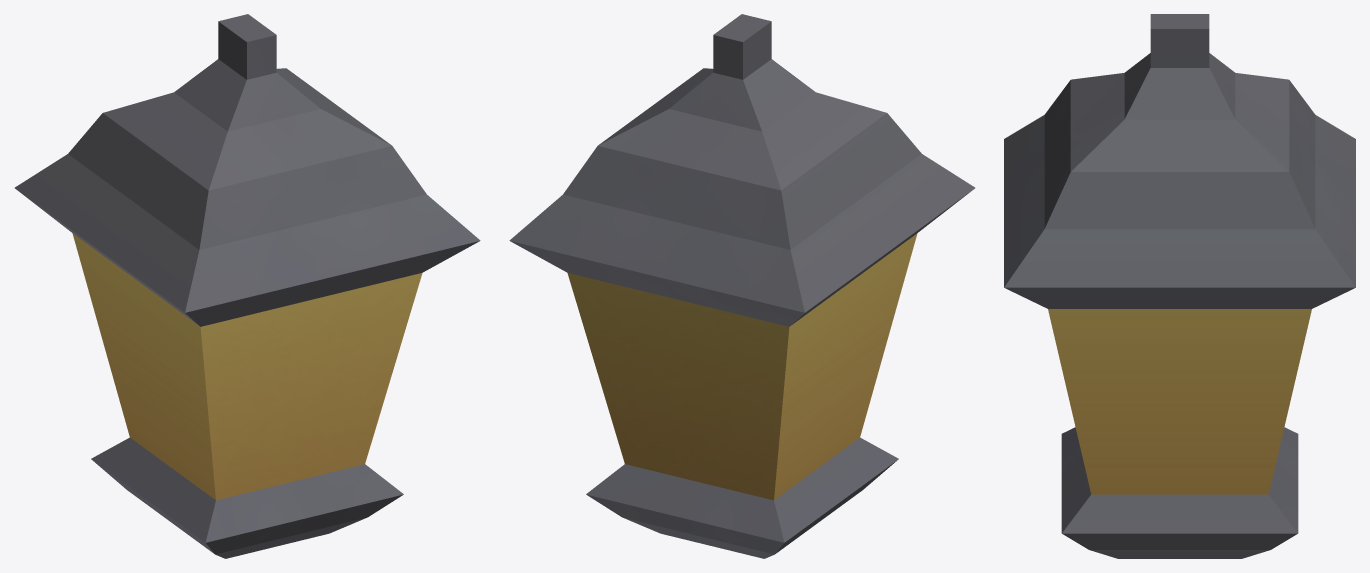
Rendered from Lanten.obj.
The picture shows the model from 3 angles, left to right: view 1: azimuth 30°, elevation 25°; view 2: azimuth 150°, elevation 25°; view 3: azimuth 270°, elevation 25°; orthographic projection. The views are drawn at different scales.
Parts seen in each view (by area): view 1: Lanten; view 2: Lanten; view 3: Lanten.
Part boxes in pixels (x1,y1,x2,y2): Lanten: [14, 14, 480, 558]; Lanten: [509, 14, 975, 558]; Lanten: [1004, 14, 1355, 558].
Size of the model in its own units: 0.2695 by 0.4322 by 0.2695.
